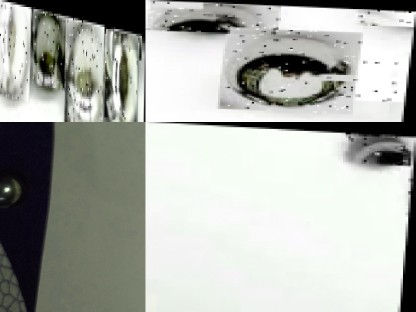ironball: (219, 26, 362, 112), (147, 0, 280, 34), (64, 13, 104, 121), (104, 24, 138, 121), (0, 0, 30, 100), (32, 6, 66, 87), (356, 54, 411, 99), (343, 130, 415, 163), (1, 173, 27, 213), (354, 7, 415, 24), (112, 22, 141, 52), (407, 141, 415, 212)
